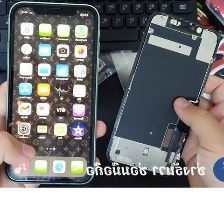phone: (102, 9, 223, 178), (2, 0, 103, 186)
